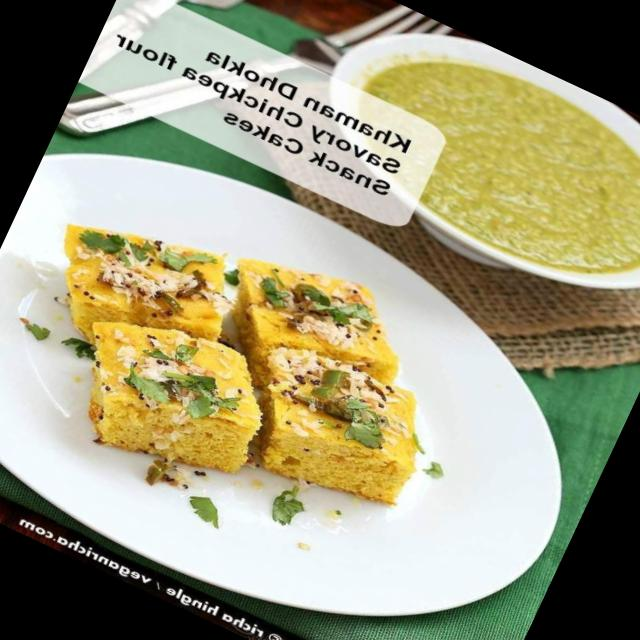dhokla: (4, 172, 472, 573)
